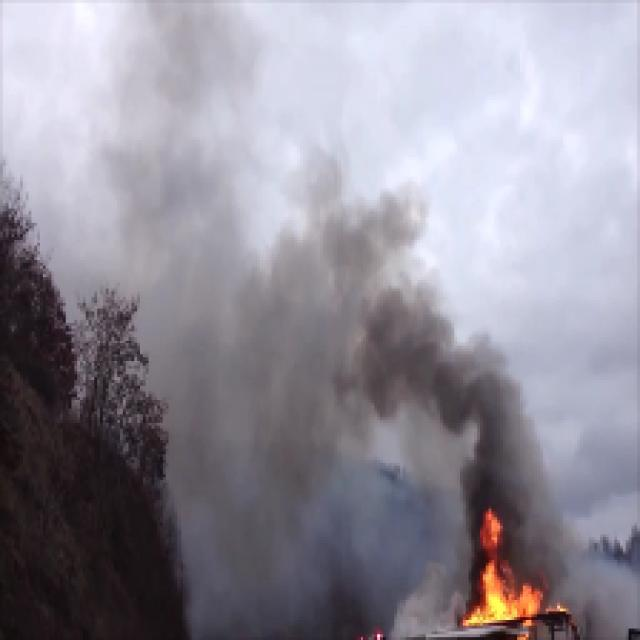smoke: (100, 8, 253, 308), (186, 321, 326, 630), (341, 198, 446, 410), (457, 348, 541, 509)
